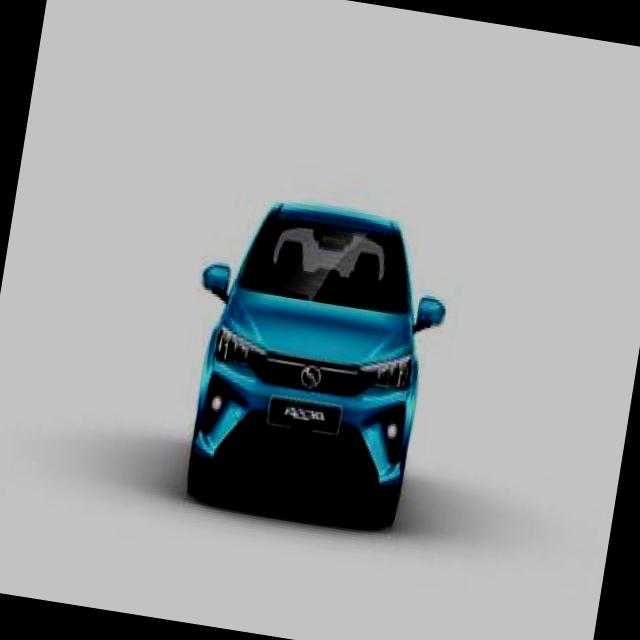PeroduaBezza: (167, 186, 462, 539)
